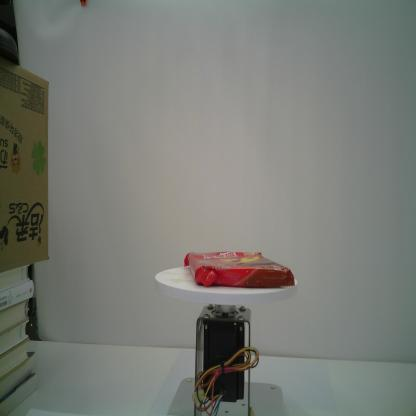Dessert: (184, 251, 295, 289)
